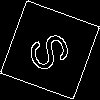S: (25, 25, 82, 75)
